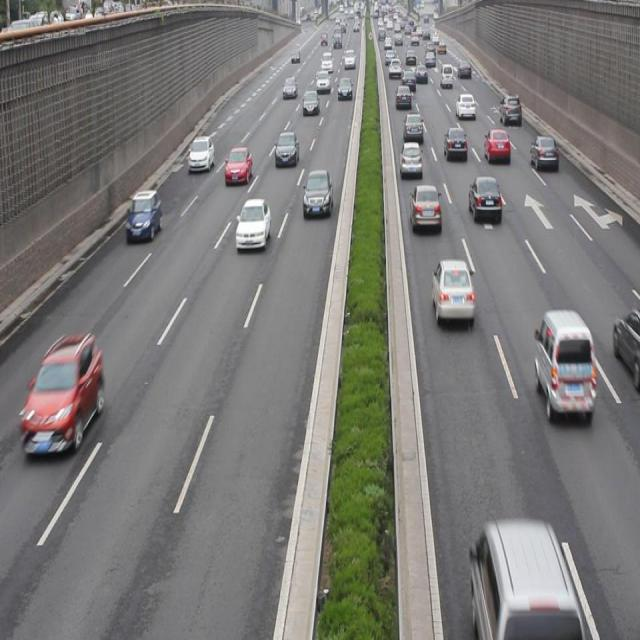car: (21, 332, 104, 457), (431, 256, 474, 325), (611, 309, 640, 381), (235, 197, 271, 251), (126, 188, 162, 242), (410, 184, 441, 234), (468, 174, 501, 220), (303, 170, 332, 216), (187, 133, 215, 172), (226, 145, 252, 186), (530, 132, 557, 170), (483, 128, 509, 166), (275, 130, 299, 169), (444, 124, 467, 162), (399, 140, 422, 178), (499, 92, 522, 126), (402, 111, 423, 143)
truck: (470, 520, 580, 640), (534, 307, 594, 415)
